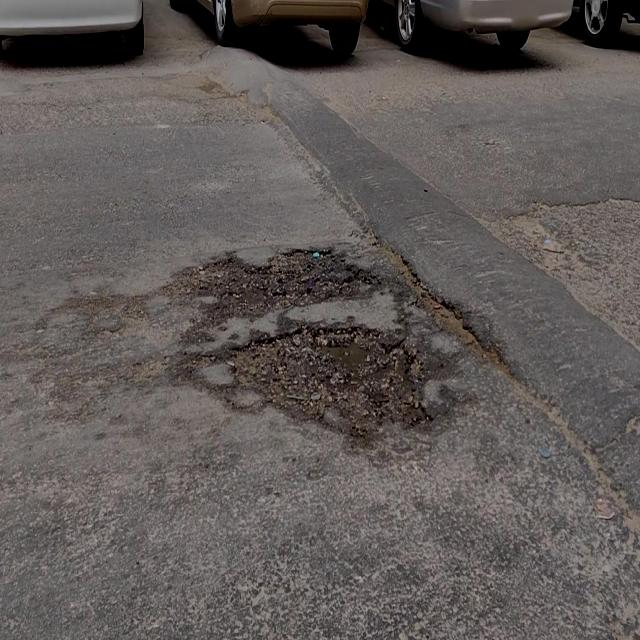Potholes: (238, 334, 417, 437), (190, 245, 354, 316)
